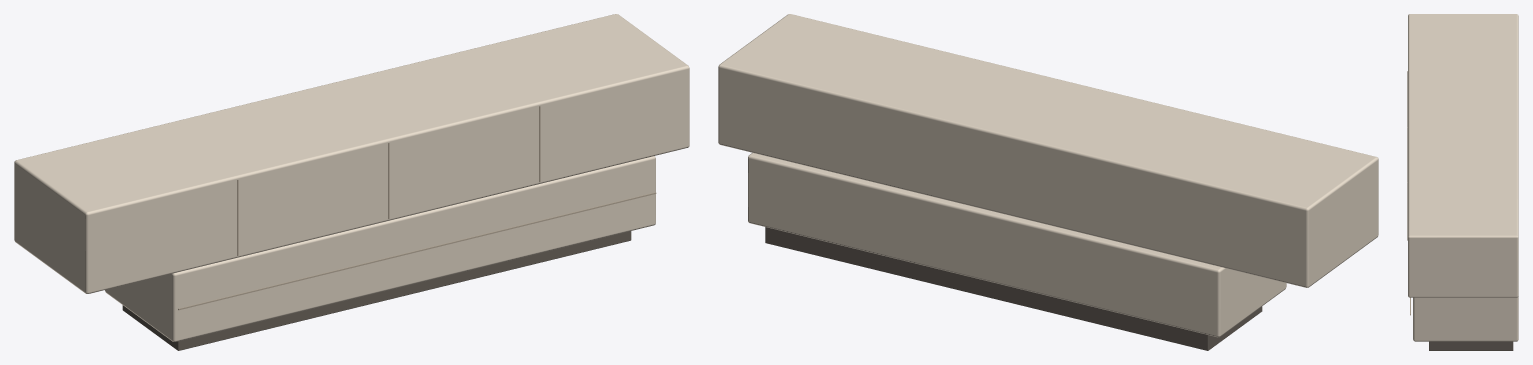
The model's file is rosita-tv-stand.glb.
3 views of the same model, side by side, from view 1: azimuth 30°, elevation 25°; view 2: azimuth 150°, elevation 25°; view 3: azimuth 270°, elevation 25° (orthographic). The views are drawn at different scales.
Parts seen in each view (by area): view 1: upper, lower, plinth, gl; view 2: upper, lower, plinth; view 3: upper, lower, plinth.
Part boxes in pixels (x1=…): upper: x1=14, y1=14, x2=689, y2=293; lower: x1=105, y1=156, x2=655, y2=341; plinth: x1=122, y1=231, x2=631, y2=350; gl: x1=178, y1=192, x2=656, y2=310; upper: x1=718, y1=14, x2=1378, y2=287; lower: x1=748, y1=153, x2=1286, y2=337; plinth: x1=765, y1=227, x2=1262, y2=350; upper: x1=1408, y1=14, x2=1518, y2=297; lower: x1=1413, y1=296, x2=1518, y2=341; plinth: x1=1429, y1=341, x2=1513, y2=350.
Size of the model in its own units: 2 by 0.55 by 0.422.
